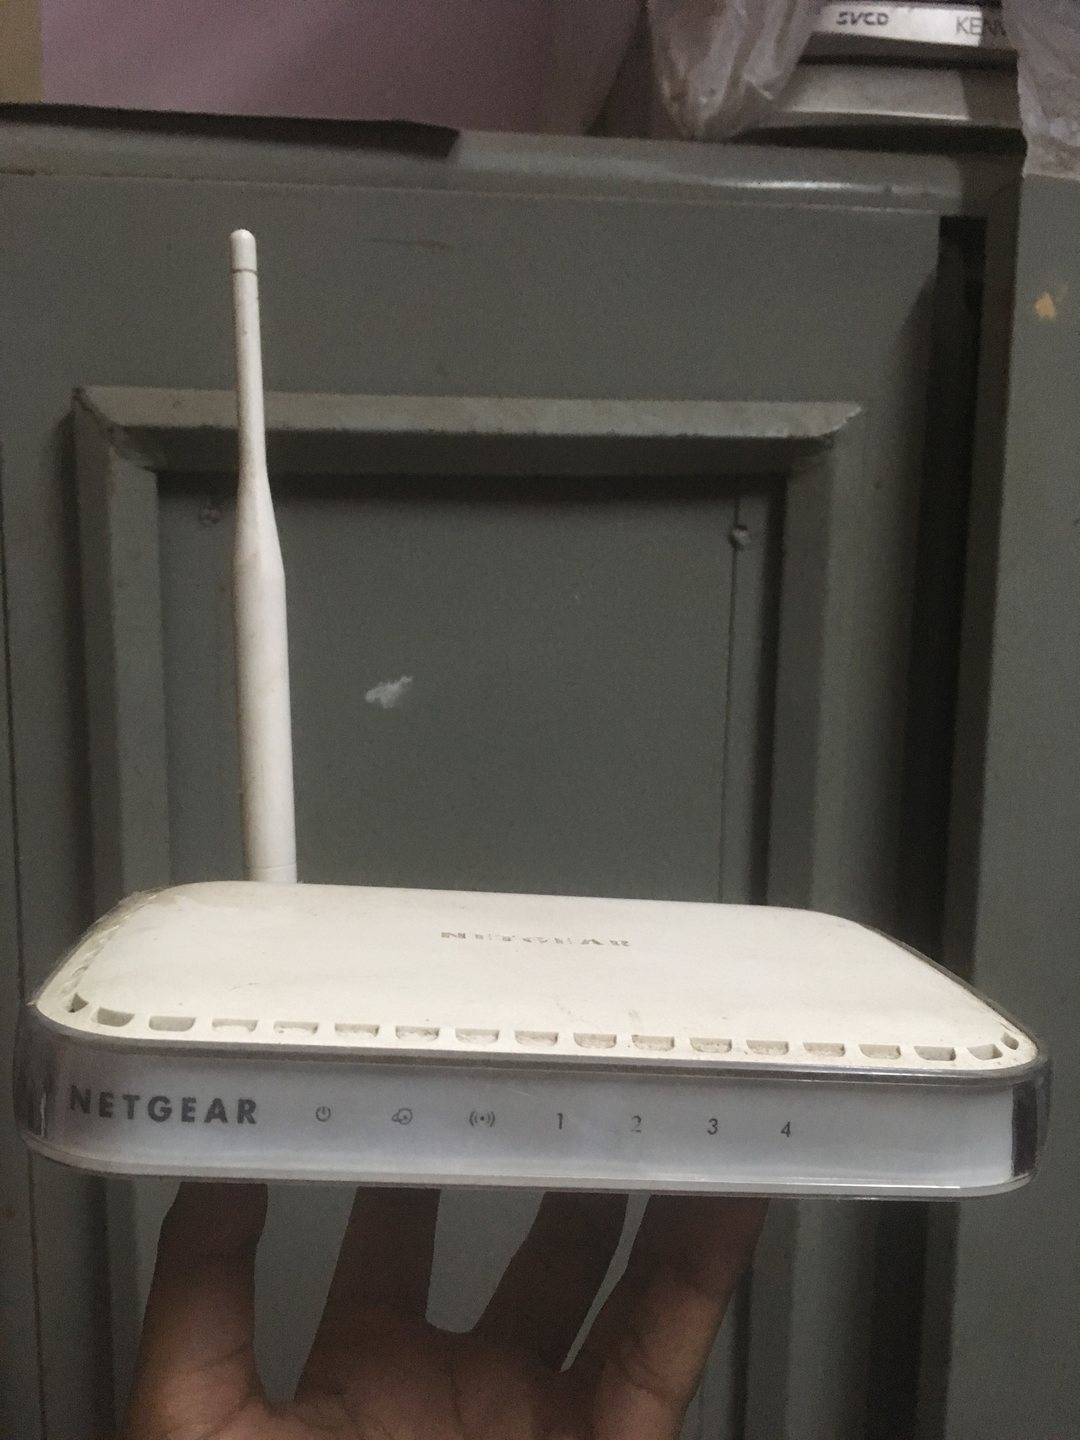NETGEAR: (60, 1075, 263, 1136)
modem: (10, 1003, 1057, 1202)
